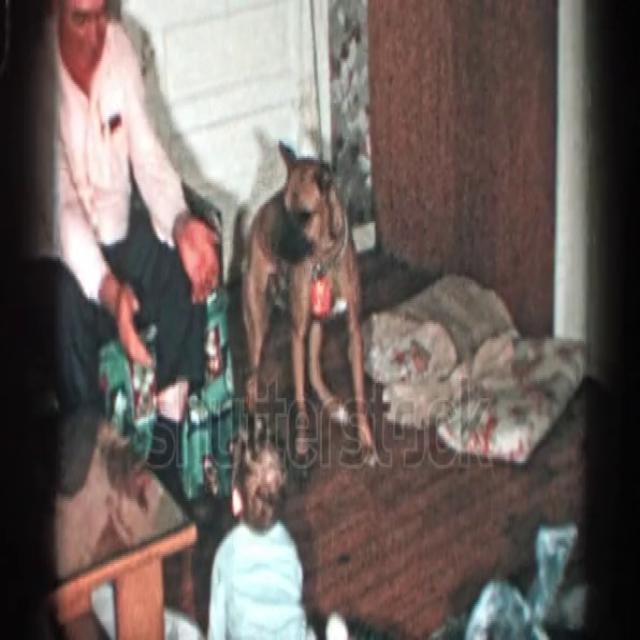normal_animals: (234, 136, 381, 474)
